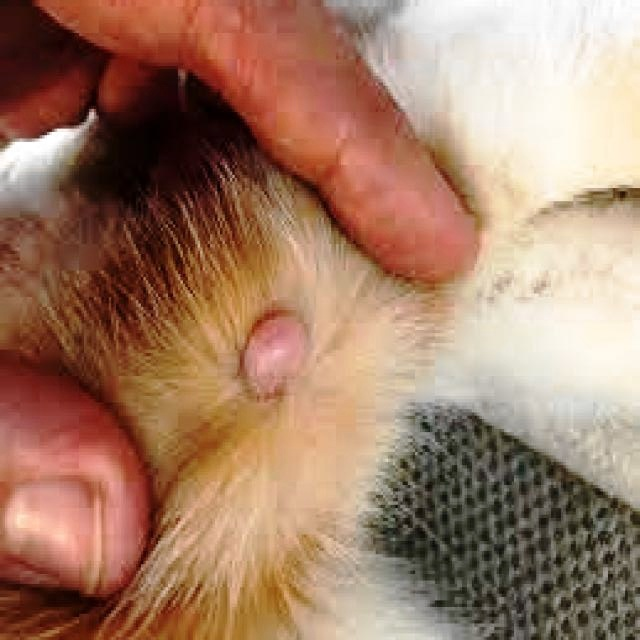lump_and_bump: (238, 314, 311, 396)
